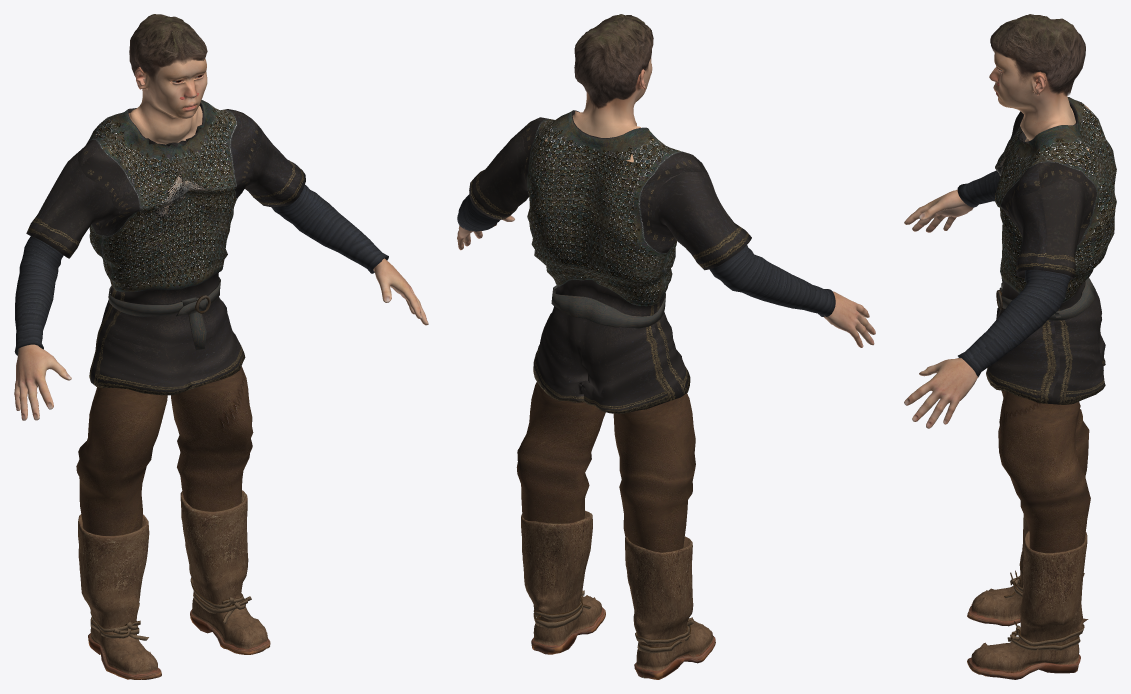
Rendered from control-mike.glb.
3 views of the same model, side by side, from view 1: azimuth 30°, elevation 25°; view 2: azimuth 150°, elevation 25°; view 3: azimuth 270°, elevation 25° (orthographic).
Parts seen in each view (by area): view 1: control-mike runtime mesh; view 2: control-mike runtime mesh; view 3: control-mike runtime mesh.
Part boxes in pixels (bbox=[...]): control-mike runtime mesh: bbox=[14, 14, 428, 679]; control-mike runtime mesh: bbox=[457, 14, 875, 679]; control-mike runtime mesh: bbox=[904, 14, 1116, 679].
Bounding box in the file's own units: 1.25 × 1.85 × 0.5693.
6 materials, 6 textured.
